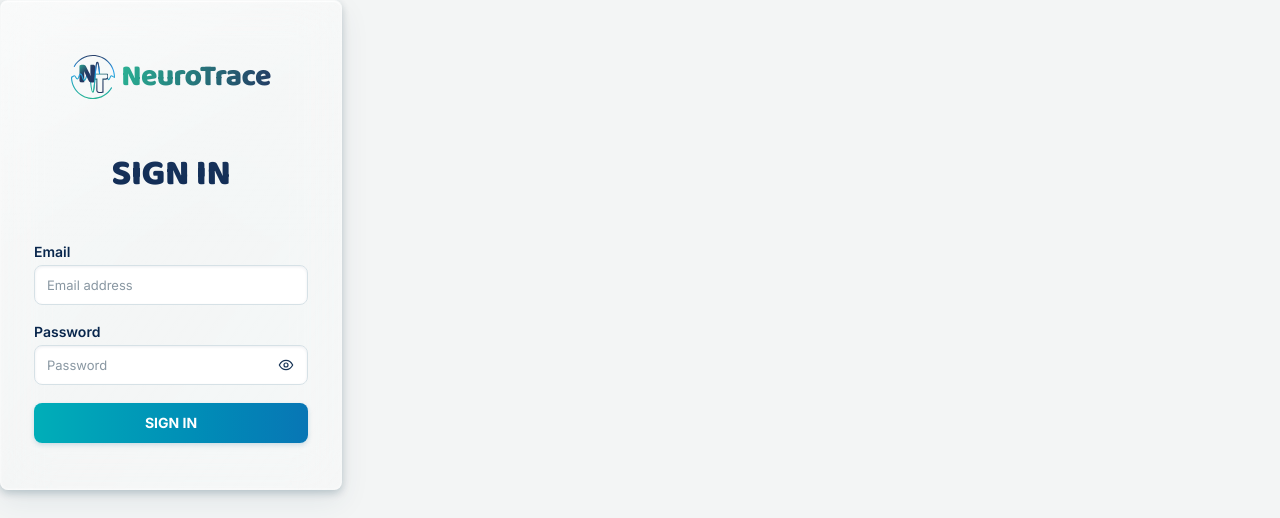
authentication and route protection › shows login errors without storing a session
In the field with placeholder "Email address": (171, 285) [34, 265, 308, 305], type "doctor@example.com"
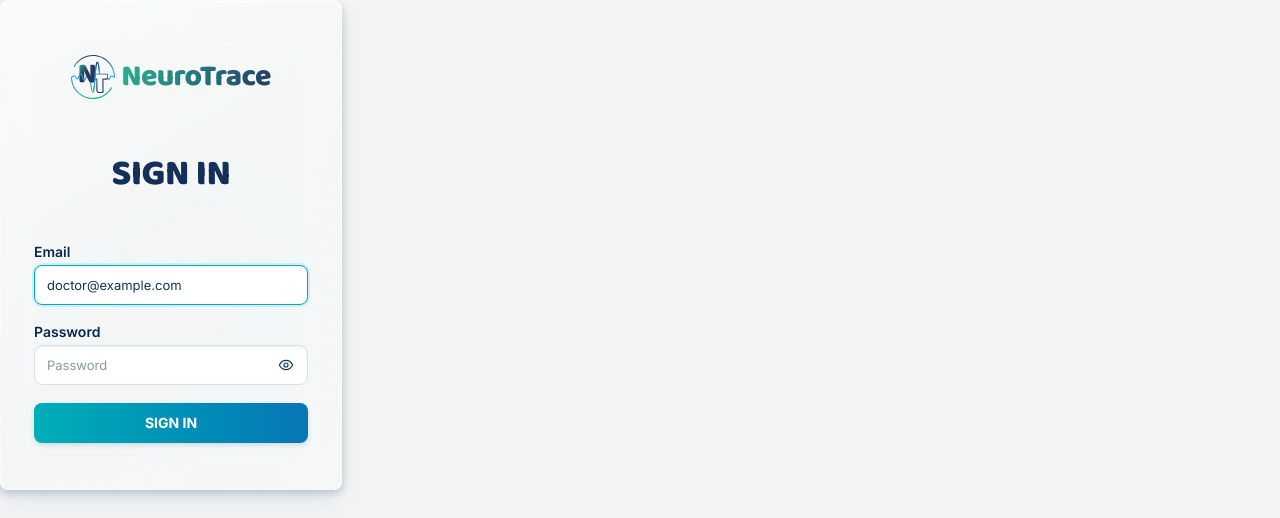
In the password field with placeholder "Password": (171, 365) [34, 345, 308, 385], type "wrong"
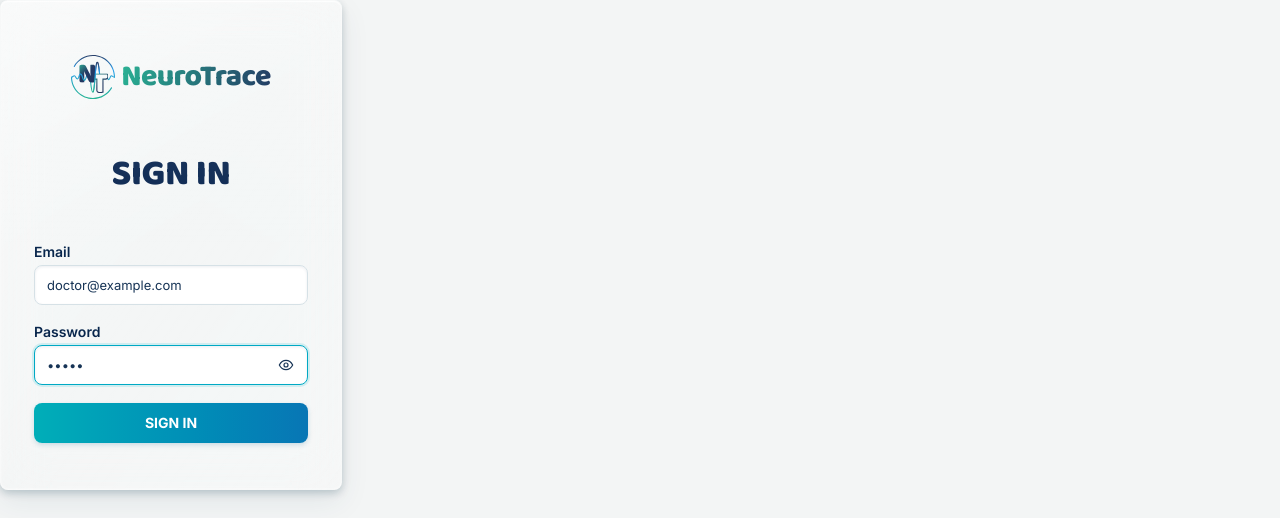
Click the button "SIGN IN": (171, 423) [34, 403, 308, 443]
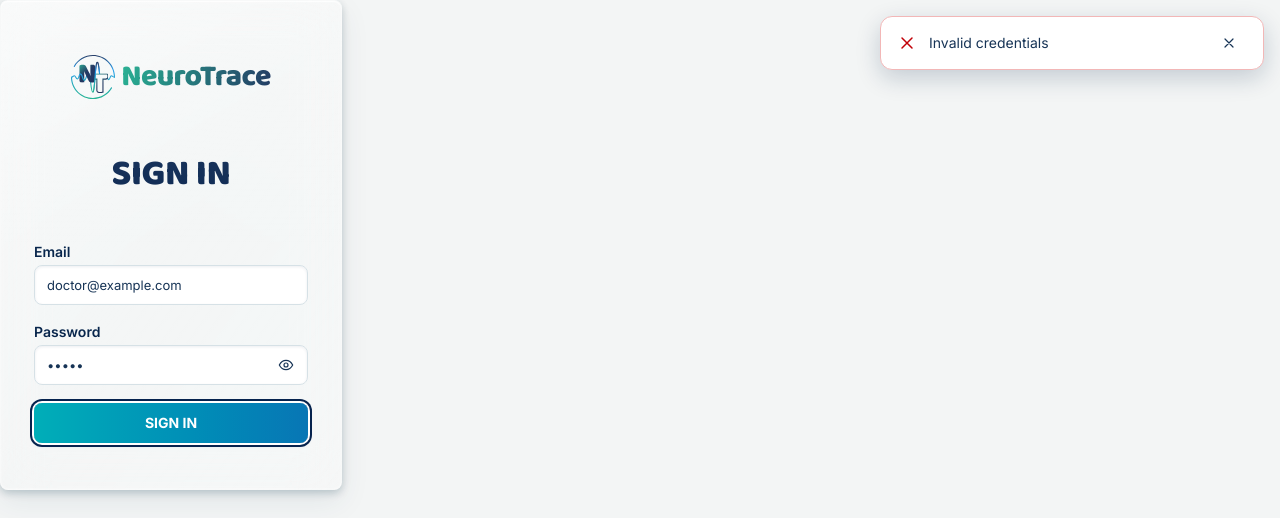
Check: the message reads "Invalid credentials", box [929, 34, 1049, 51]
